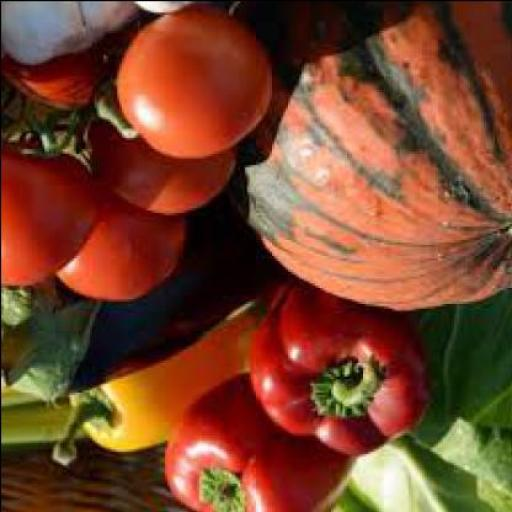biodegradable: (216, 4, 510, 314), (47, 303, 253, 469), (242, 284, 428, 460), (160, 375, 361, 511), (112, 11, 272, 164), (401, 294, 510, 494), (69, 260, 209, 391), (1, 23, 144, 144), (48, 175, 182, 303), (90, 118, 237, 219), (0, 145, 98, 286), (325, 437, 511, 511), (1, 277, 102, 404), (0, 325, 82, 453), (1, 0, 144, 69), (2, 95, 98, 173), (113, 2, 214, 18)
